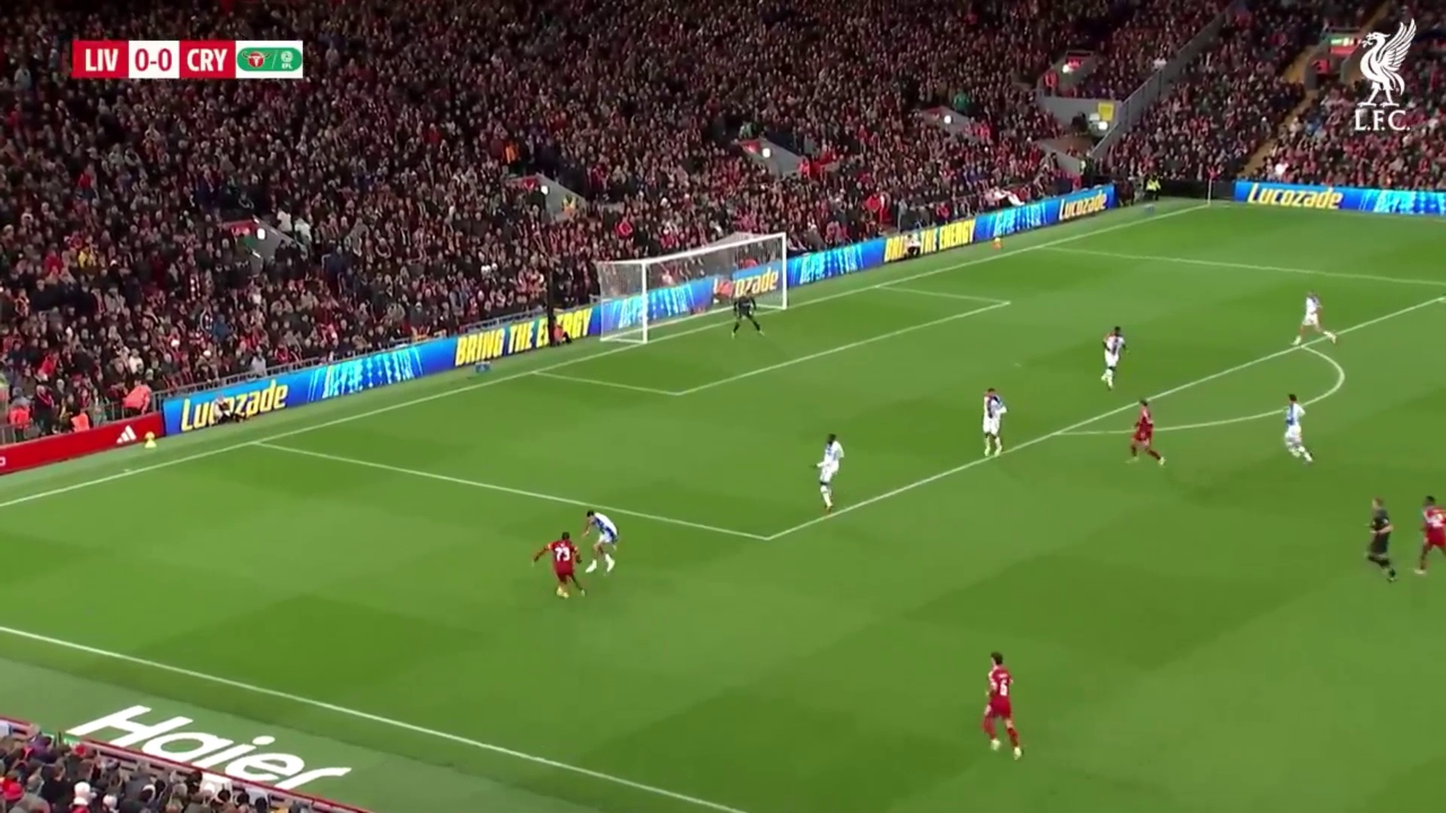player: (980, 652, 1025, 760), (531, 532, 589, 602), (549, 531, 588, 600), (1281, 391, 1315, 465), (1127, 402, 1166, 465), (1365, 501, 1396, 579), (816, 434, 845, 513), (586, 510, 619, 573), (1294, 292, 1331, 348), (1417, 497, 1445, 571), (1367, 496, 1393, 568), (982, 388, 1007, 459), (731, 293, 764, 337), (1104, 326, 1126, 388)
